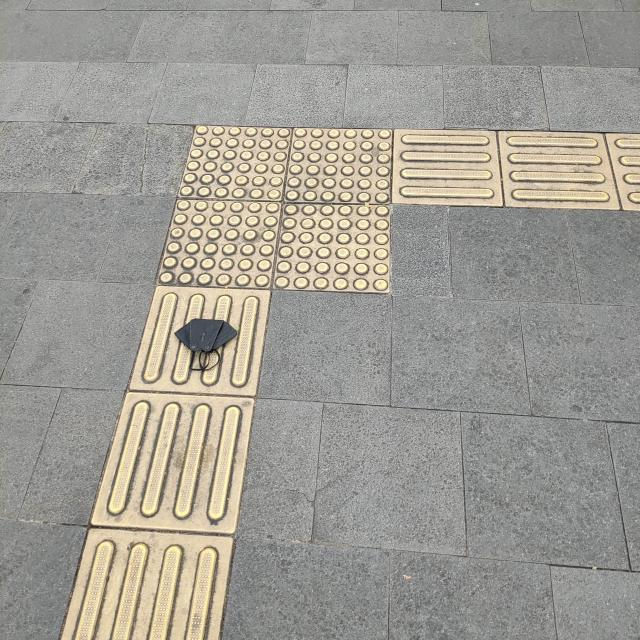kanan: (123, 33, 640, 343)
